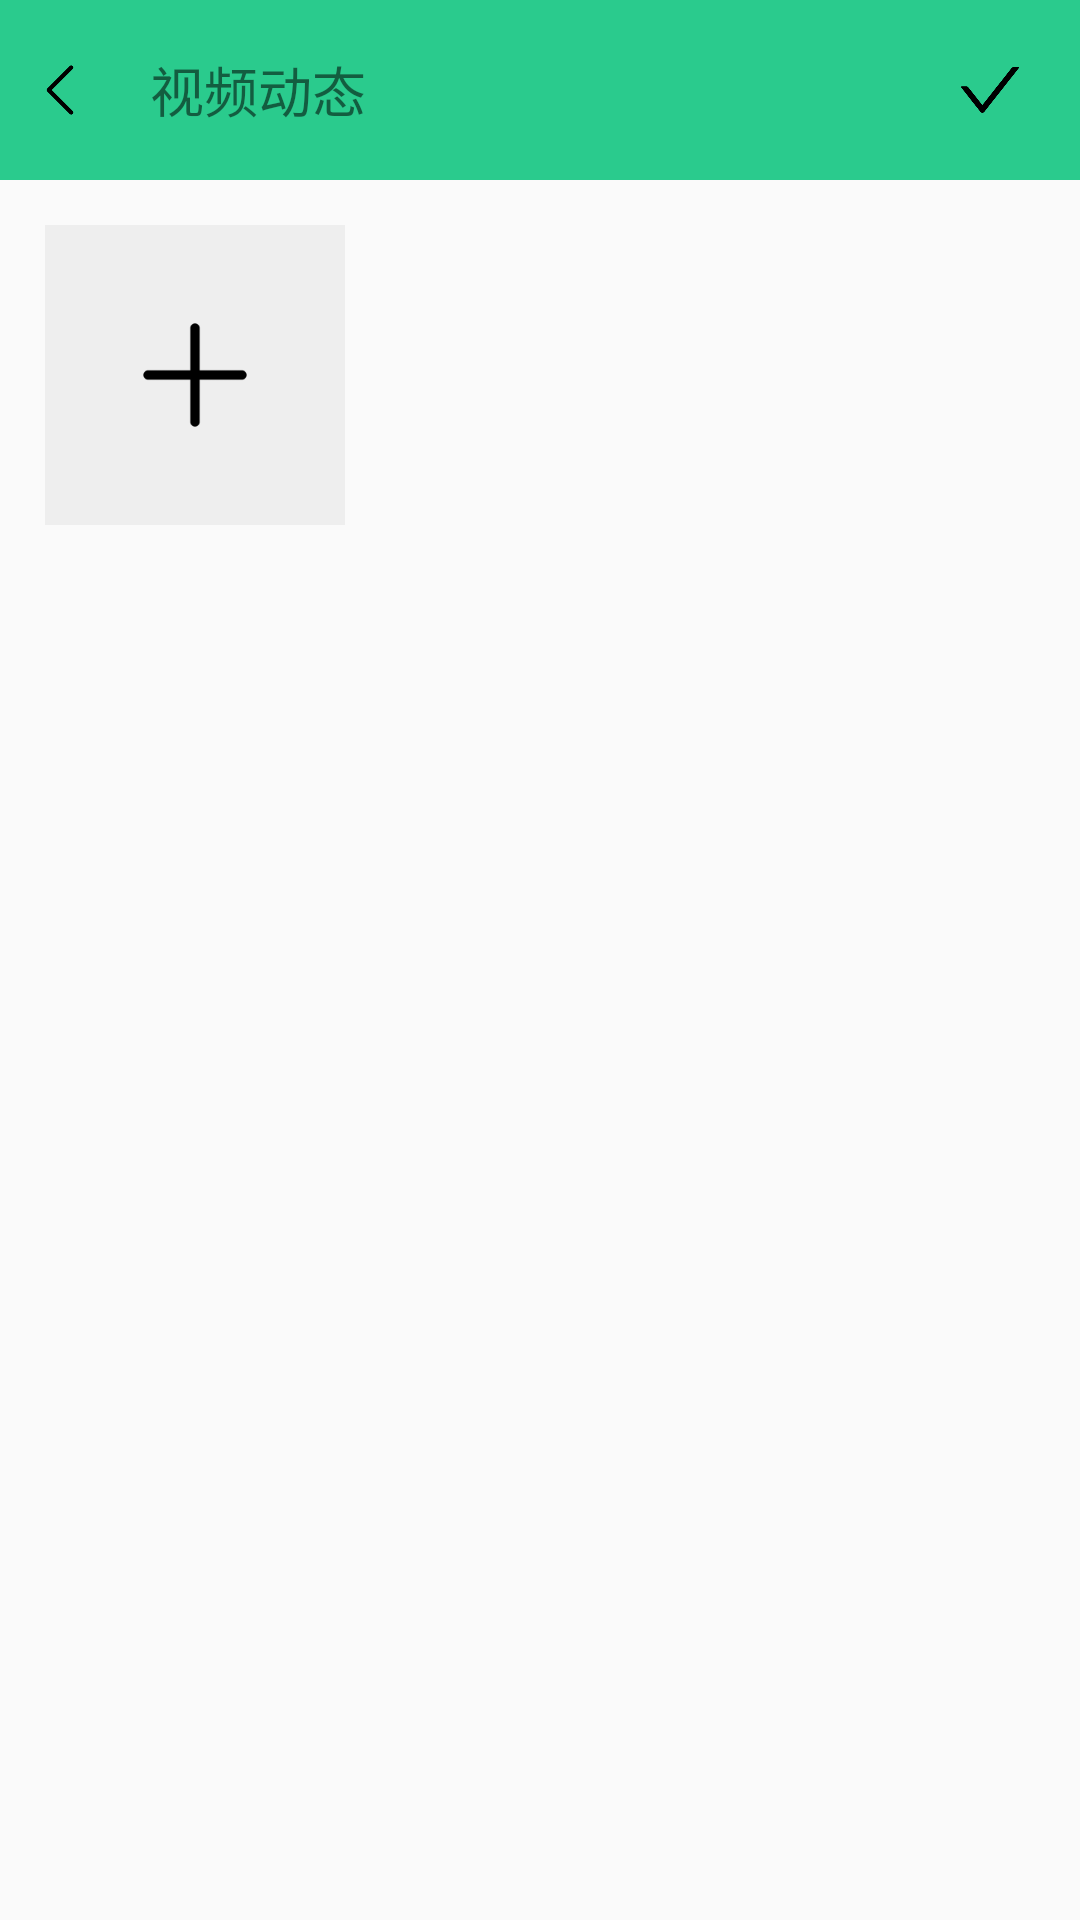

Where to tap for icons on this 1080 x 1920 app screen, as [x,y]:
add: [195,375]
arrow left: [60,90]
correct: [990,90]
